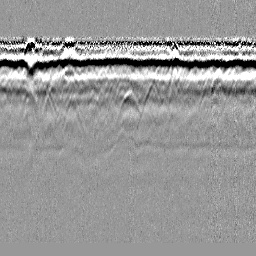cavity: (114, 87, 140, 124)
